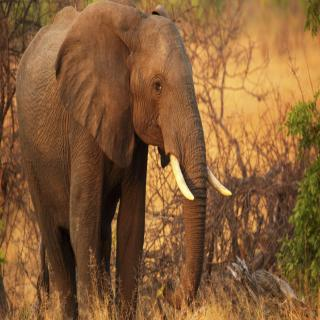Elephant: (15, 0, 234, 319)
